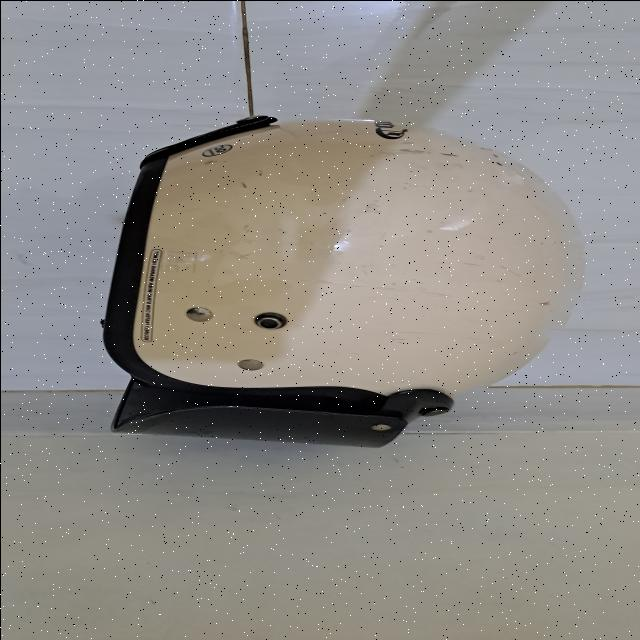Helmet: (100, 112, 586, 447)
